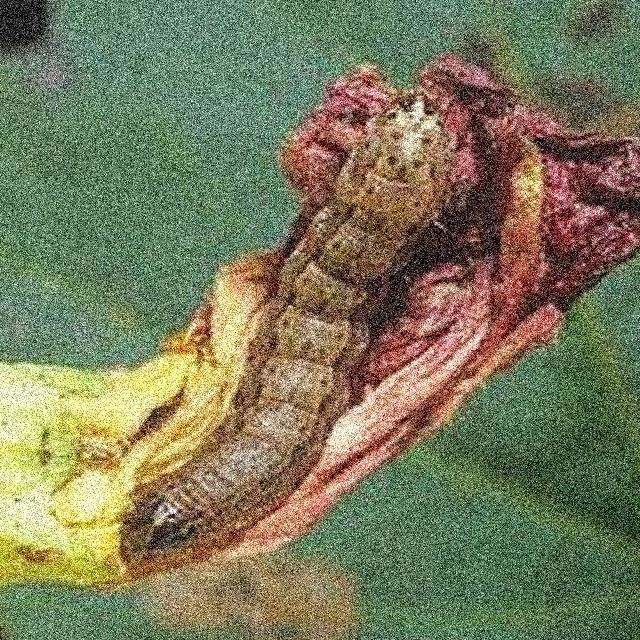Plaga: (135, 87, 457, 564)
